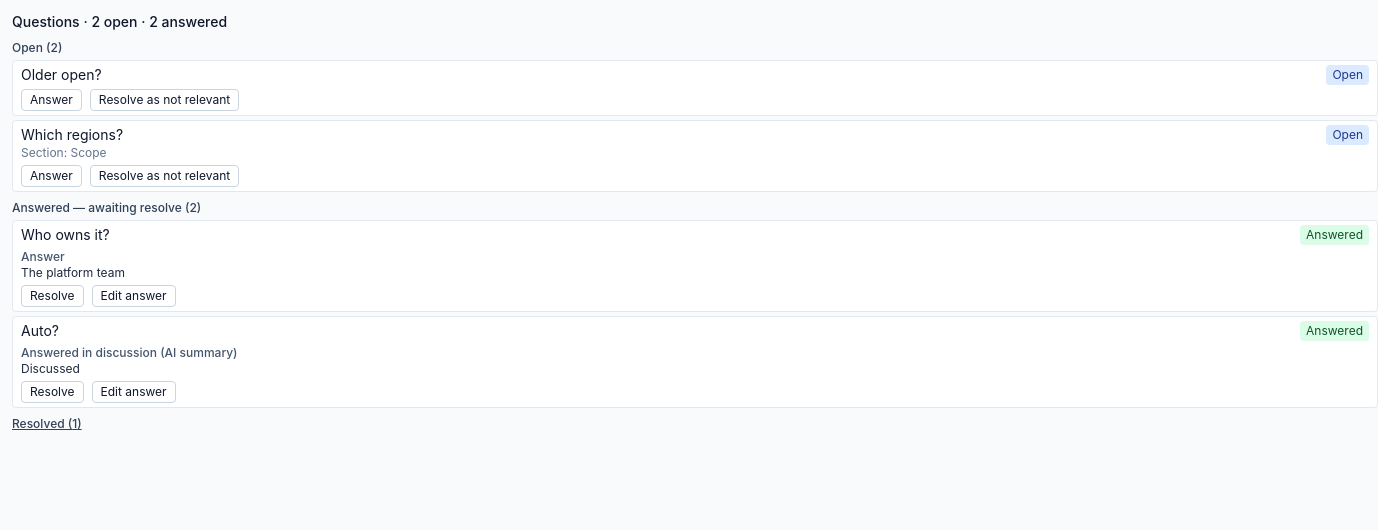
Scenario: QuestionsList › Edit answer prefills the form
Click the button "Edit answer" below "Who owns it?" at (134, 296), box [92,285,176,307]
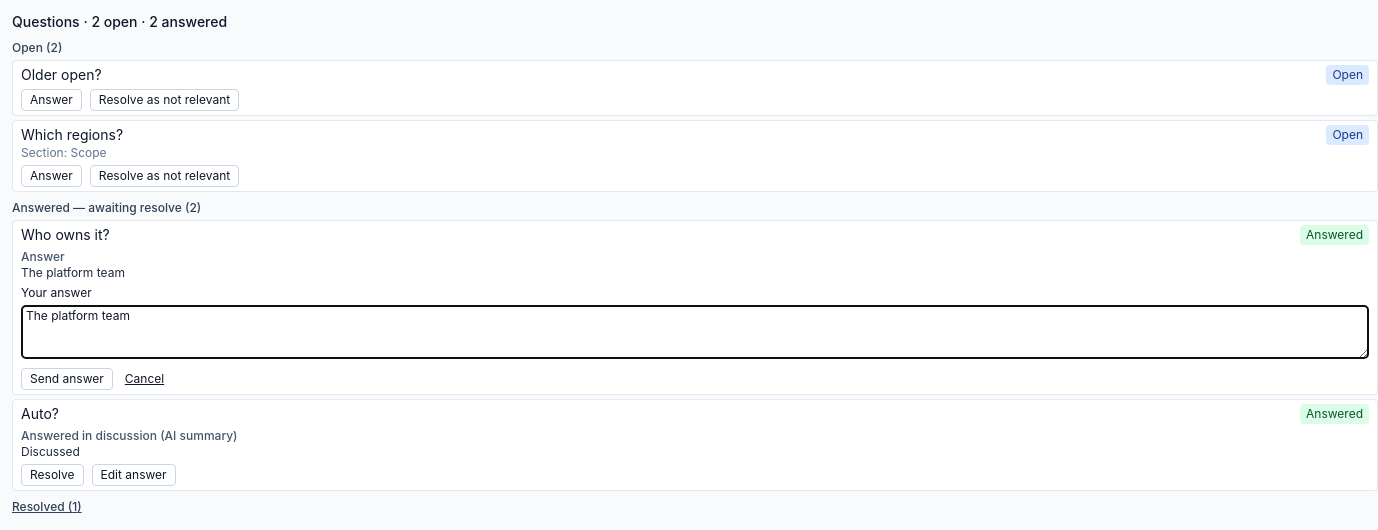
Result: the text box labelled "Your answer" holds "The platform team" at [21,305,1369,359]
